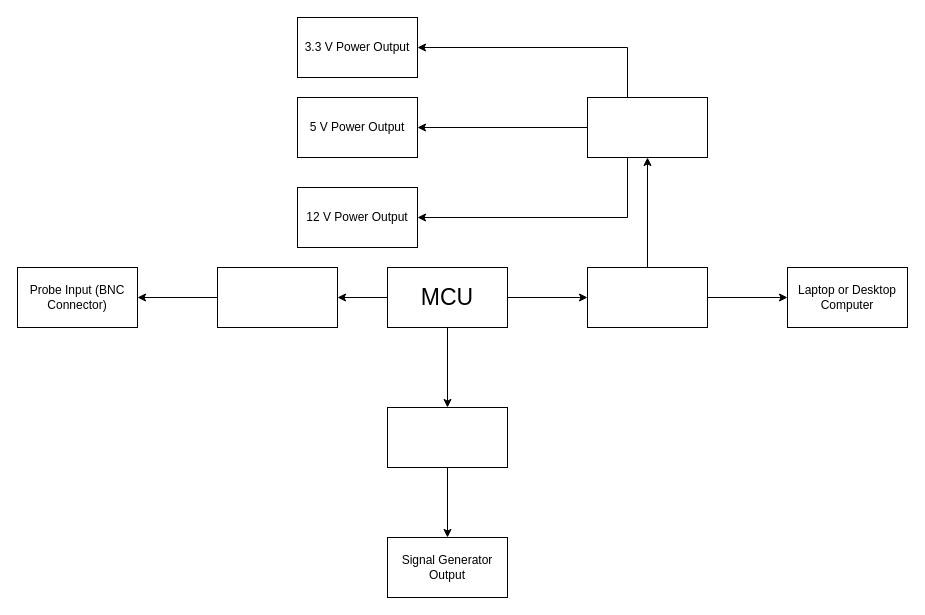
Image size: 925x615. Some labels were removed from this diagram. The box of each missing label's shape, as (x1, y1, x2, y2) in pixels:
Analog to Digital Converter: (216, 266, 338, 328)
Buck and Boost Converters: (586, 96, 708, 158)
Digital to Analog Converter: (386, 406, 508, 468)
USB Connector Power and Data: (586, 266, 708, 328)
